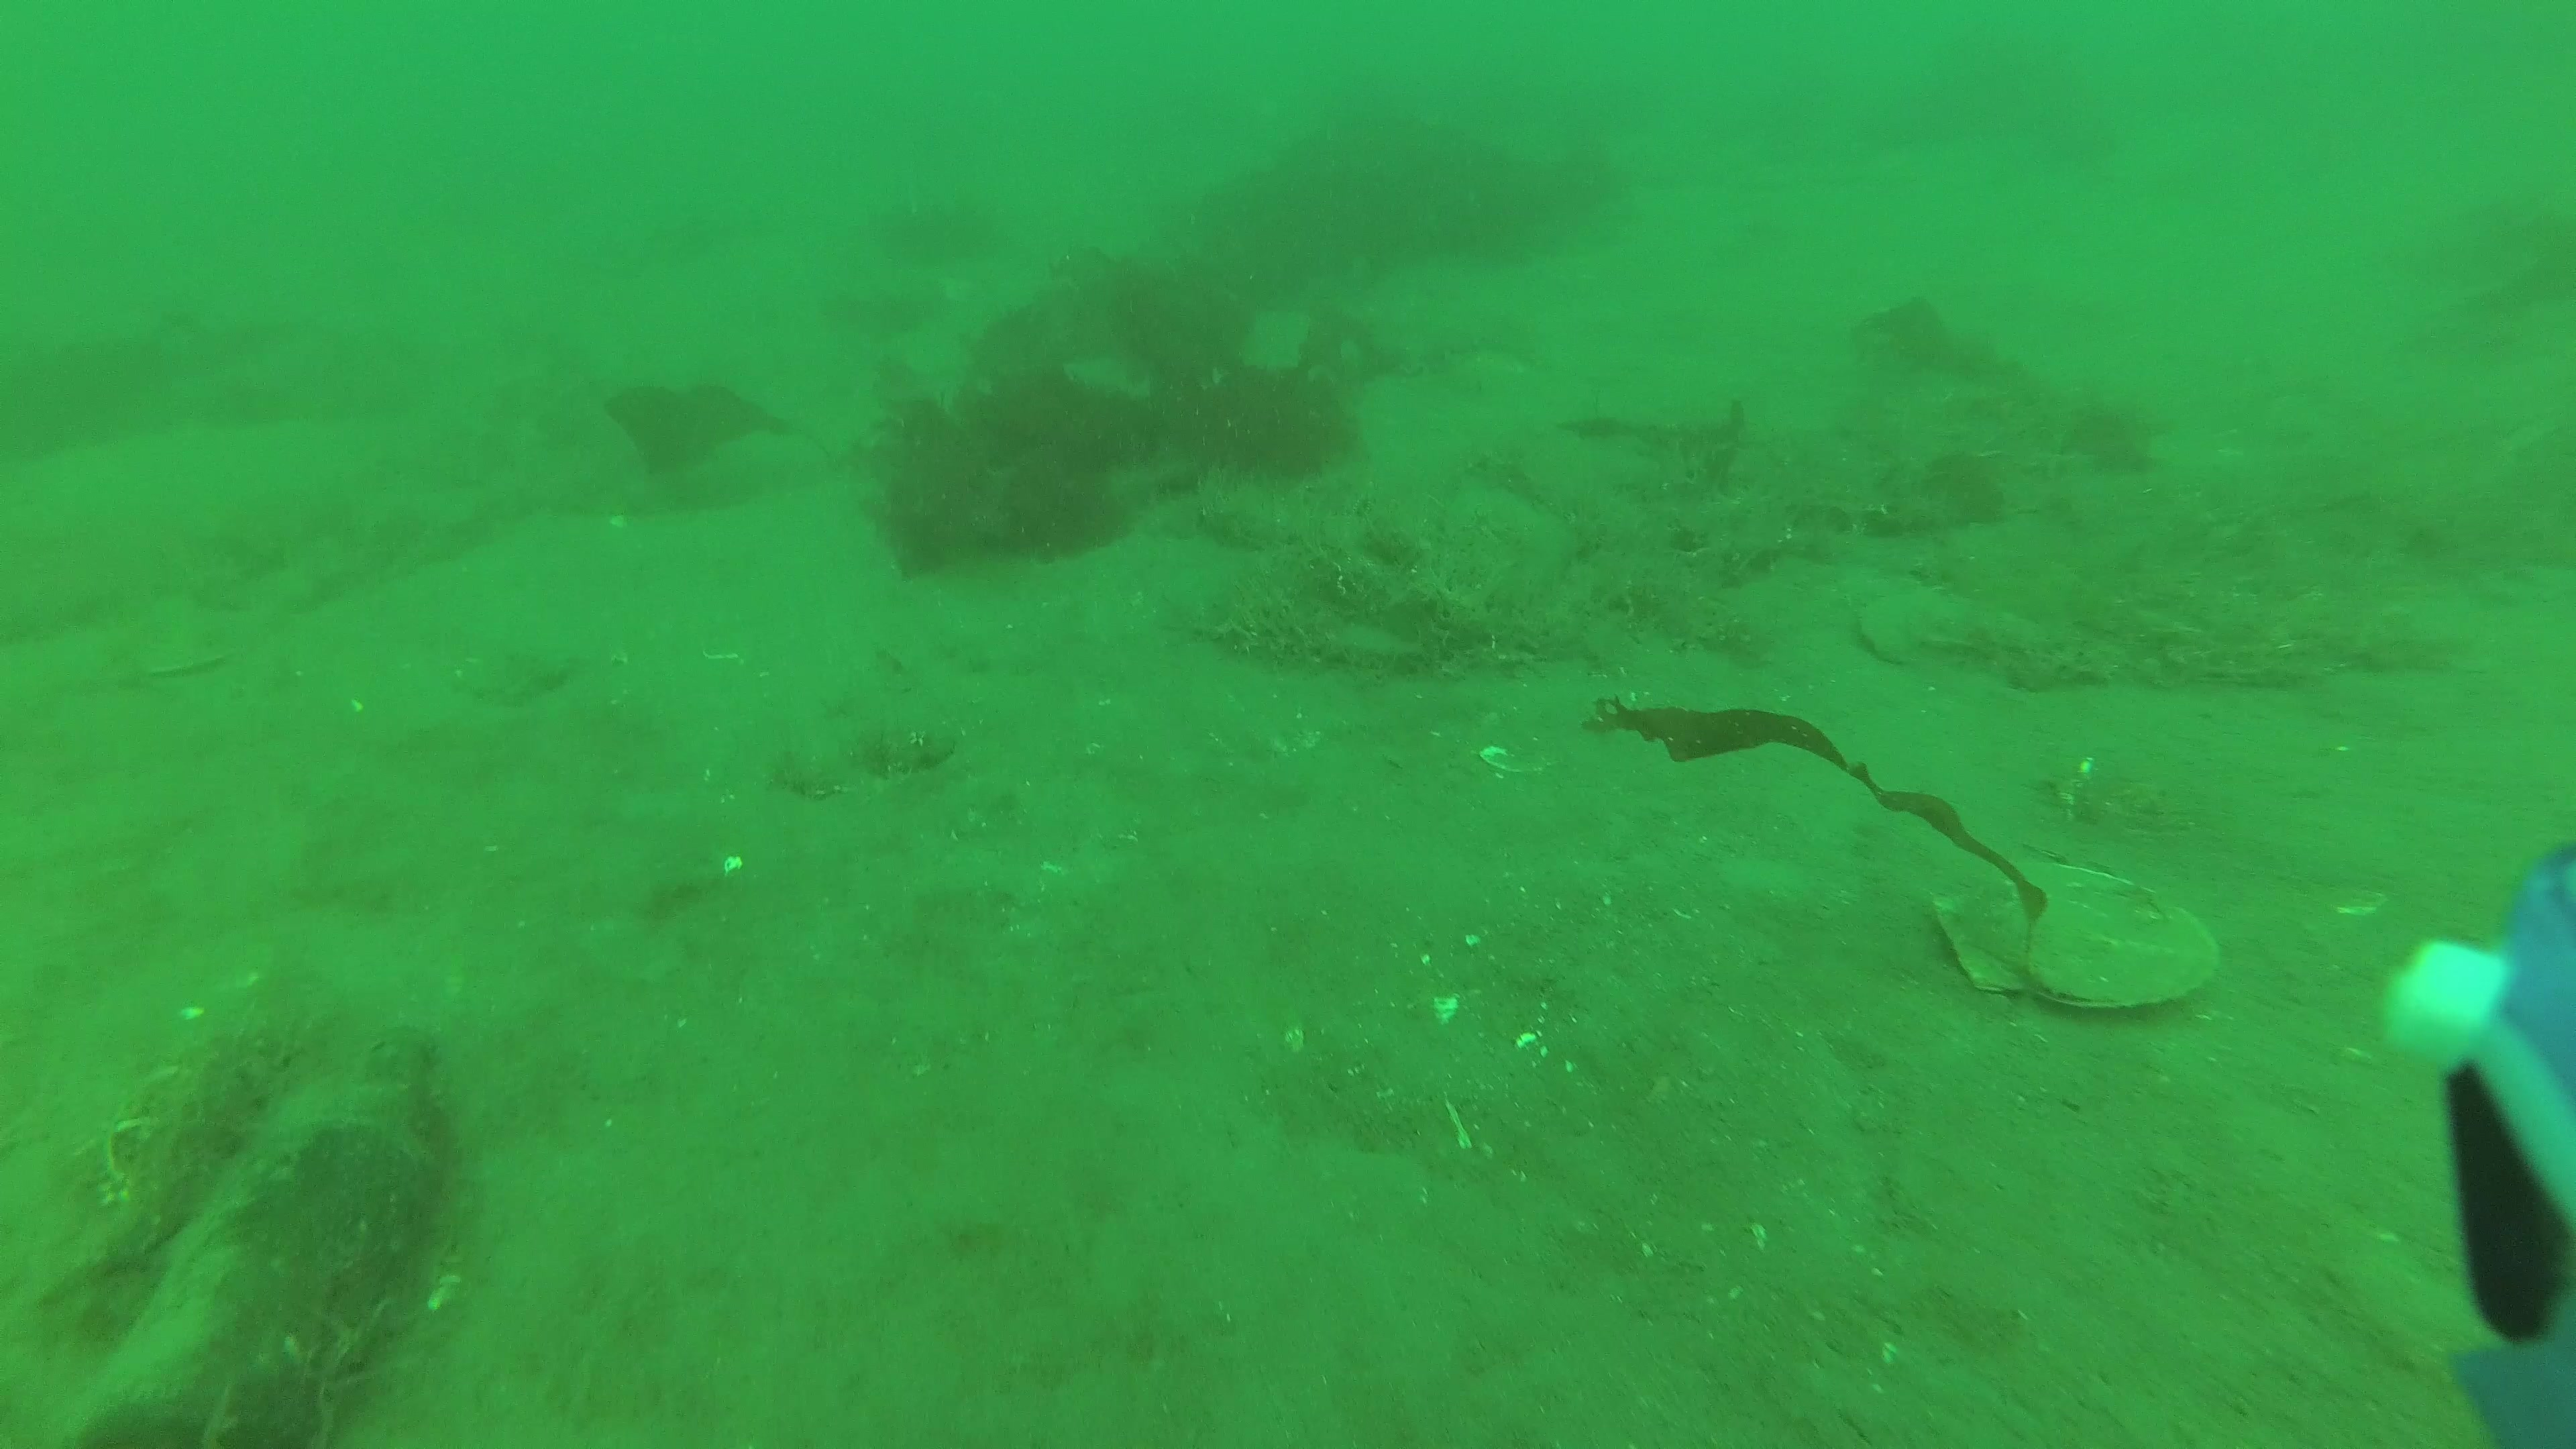scallop: (1928, 860, 2226, 1012), (1854, 586, 2029, 674)
